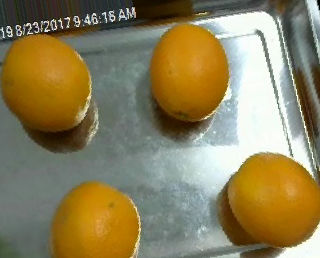Orange: (1, 32, 91, 131), (227, 152, 320, 247), (149, 23, 229, 122), (50, 179, 142, 258)
